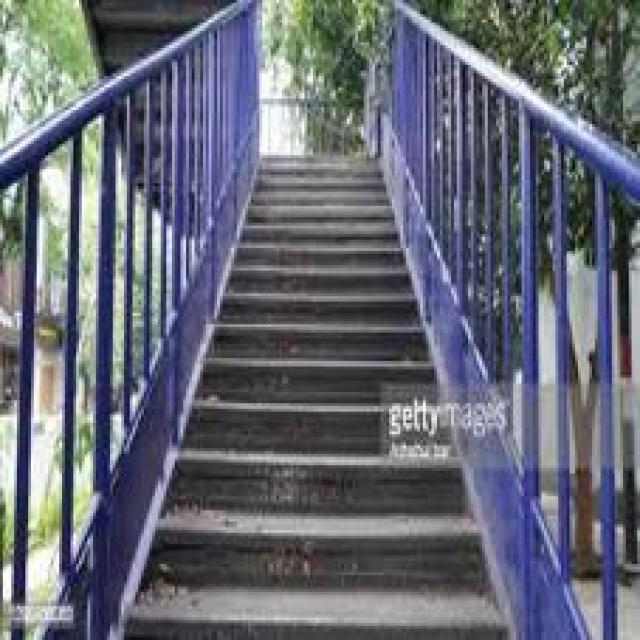stair: (135, 156, 521, 640)
